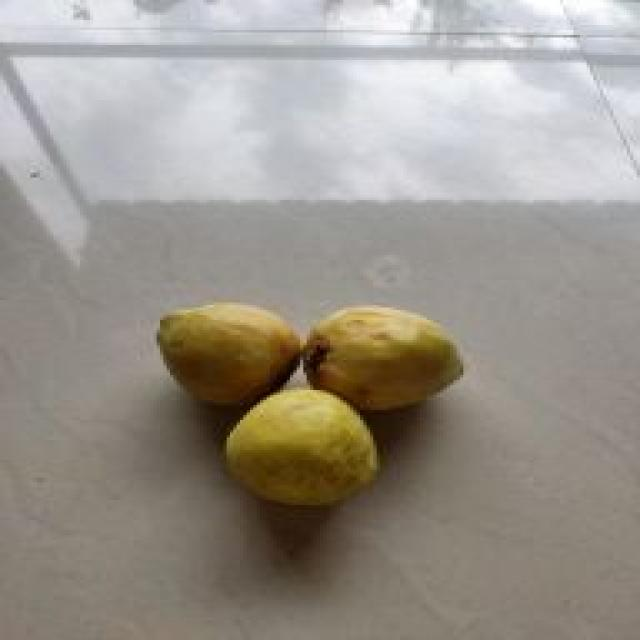Good_Guava: (300, 305, 467, 418), (223, 388, 380, 508), (157, 302, 303, 412)
